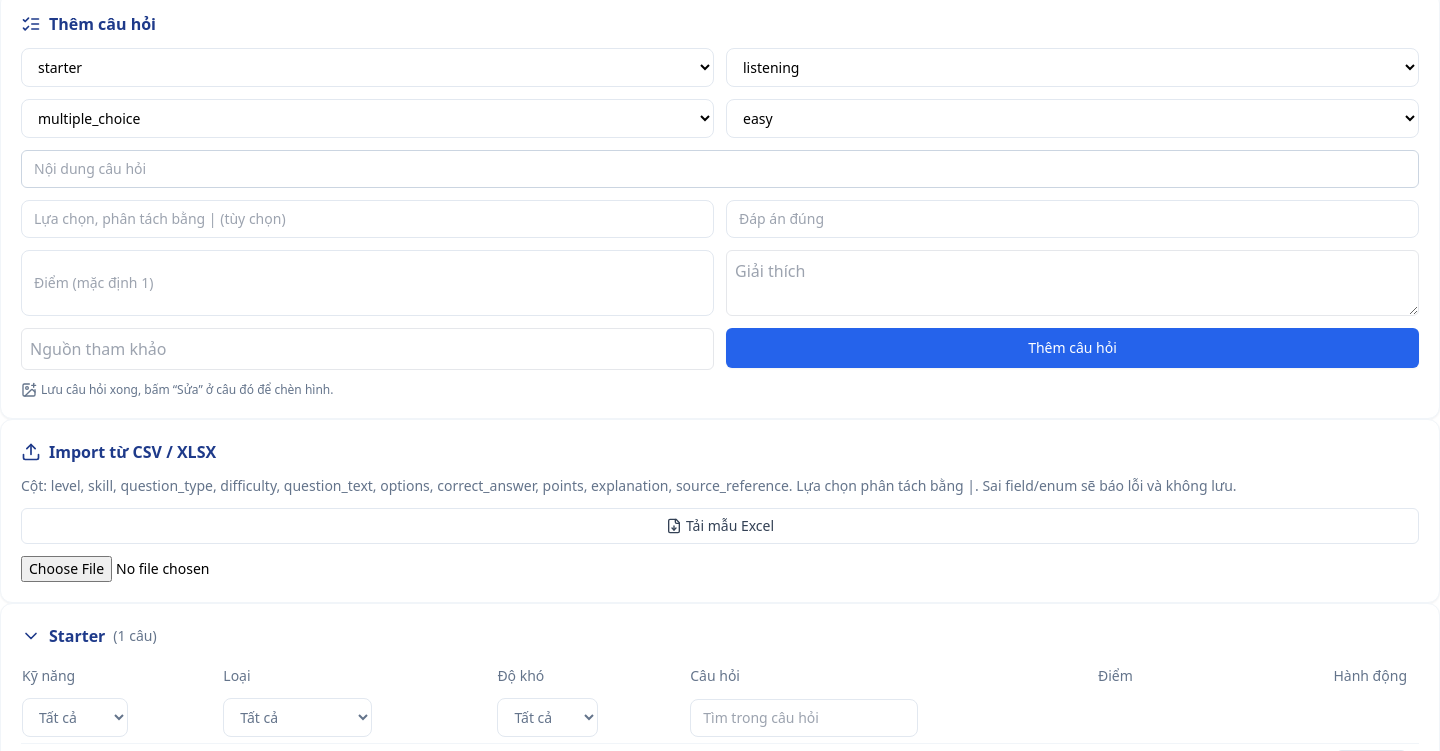
question UI with real hooks/client/parser › filters within a level panel and resets the displayed list
The image size is (1440, 751).
Select "hard" in the dropdown named "Lọc độ khó Starter" at (548, 718), box [497, 698, 598, 737]
(page scrolled)
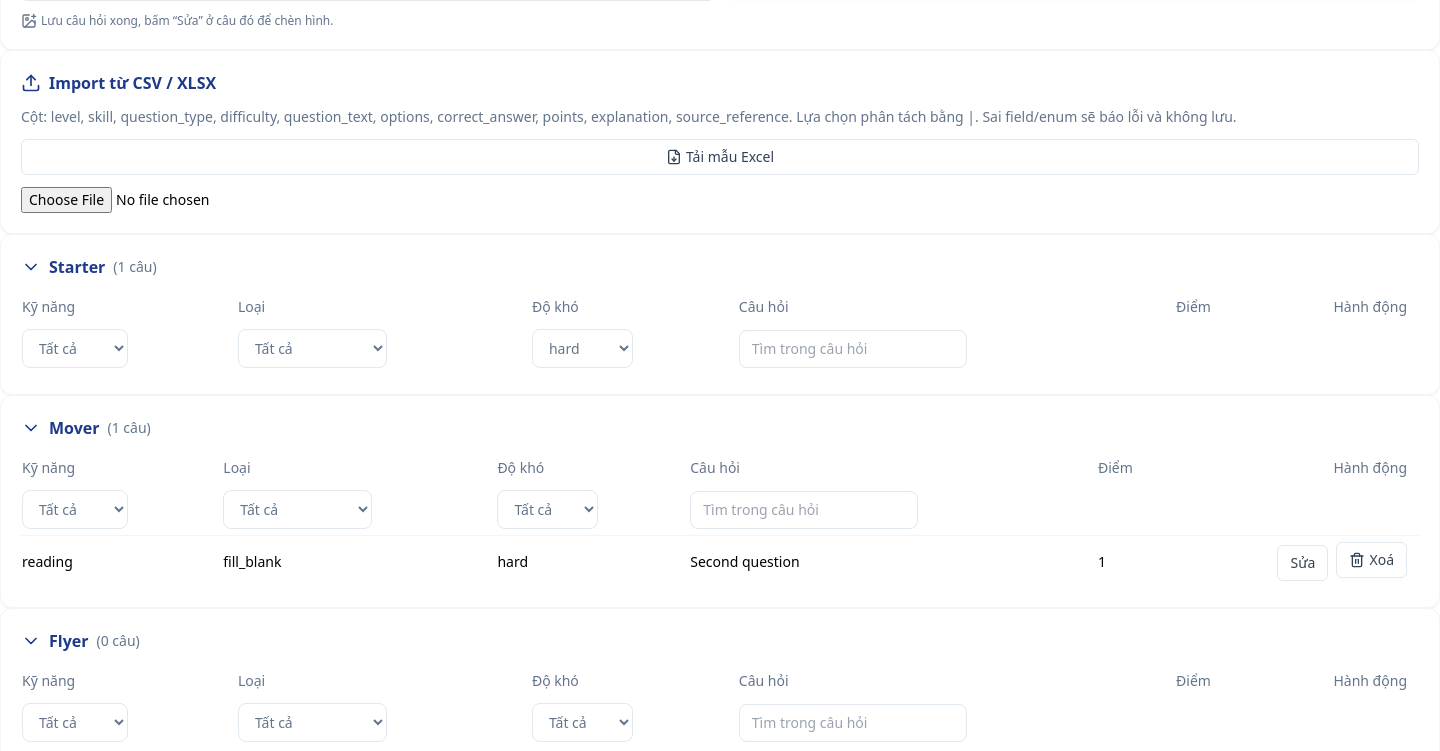
Expected: the text "Second question" is shown, [689, 536, 1097, 587]
Lọc văn bản trong panel Mover ẩn nốt Second question.
Type "zzz" into the field named "Lọc câu hỏi Mover" at (804, 510), box [690, 490, 918, 528]
(page scrolled)
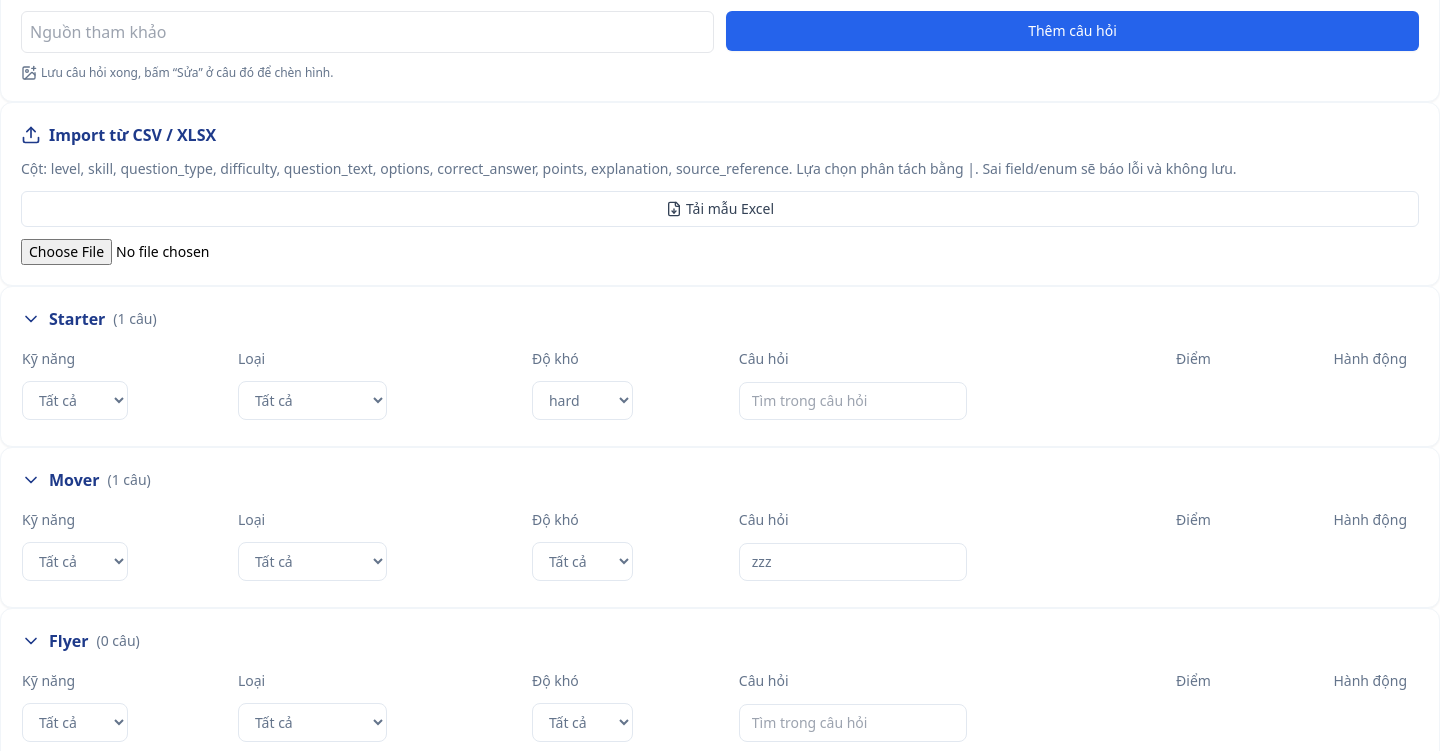
Expected: the text "Second question" is gone
Xóa bộ lọc (đặt lại select/input) khôi phục danh sách hiển thị của mỗi panel.
Select "Tất cả" in the dropdown named "Lọc độ khó Starter" at (582, 400), box [532, 381, 633, 420]
(page scrolled)
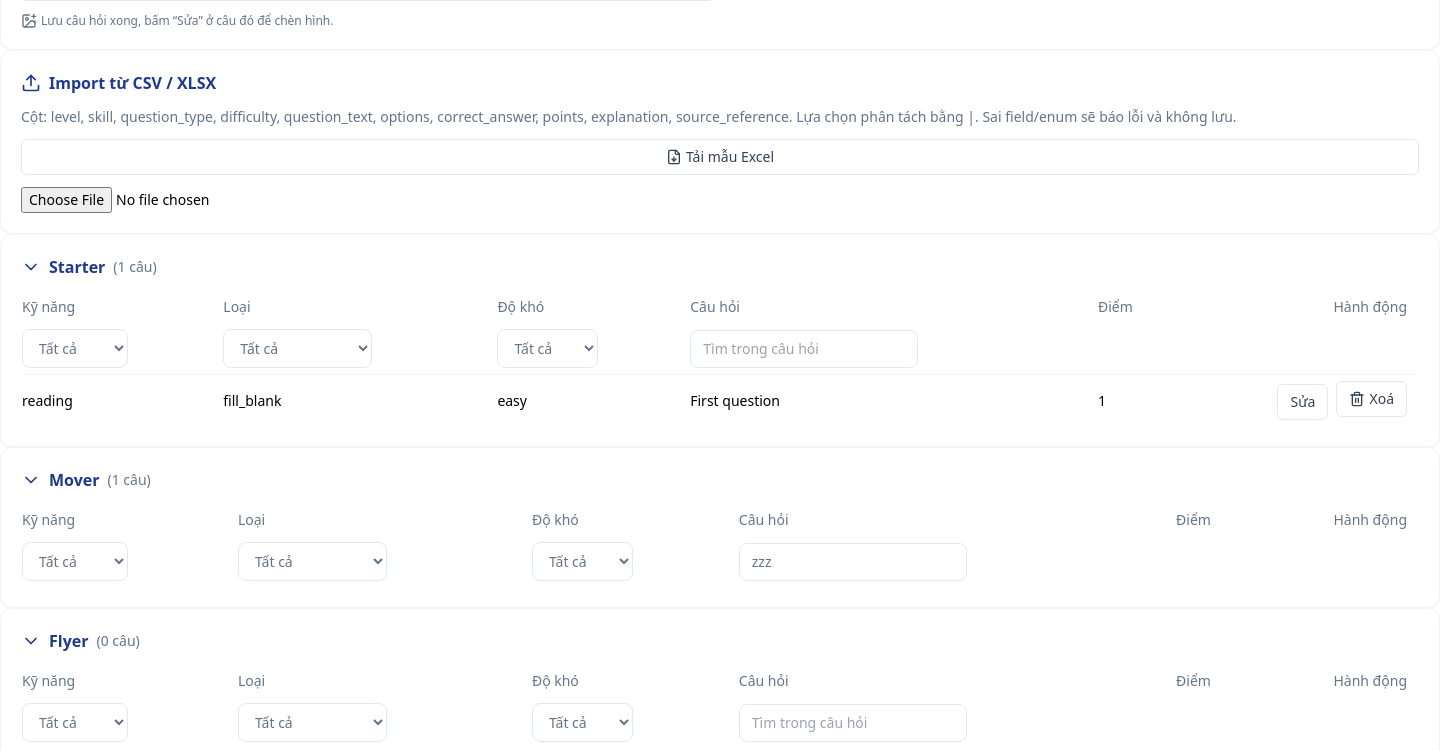
Clear the field named "Lọc câu hỏi Mover" at (853, 562), box [739, 542, 967, 580]
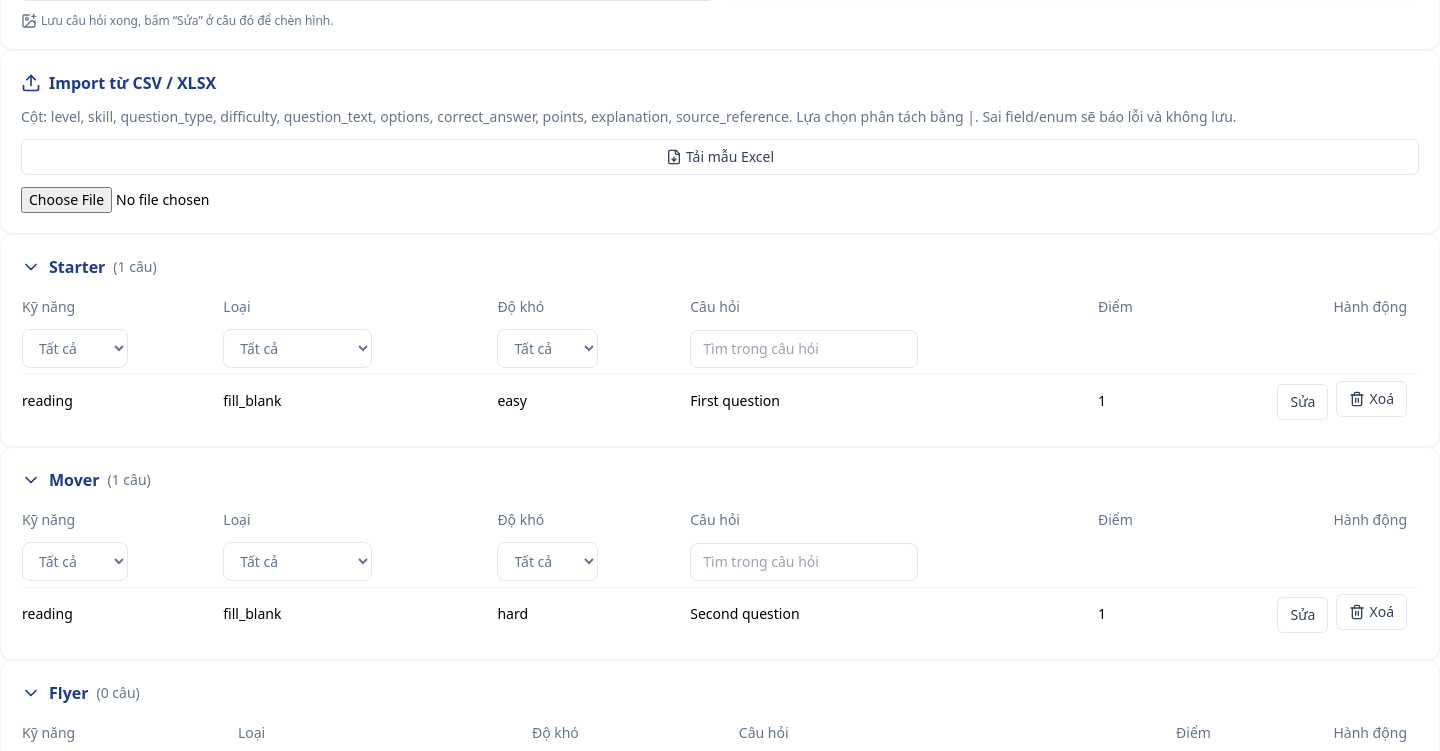
Expected: the text "First question" is shown, [689, 374, 1097, 426]
Expected: the text "Second question" is shown, [689, 588, 1097, 639]
